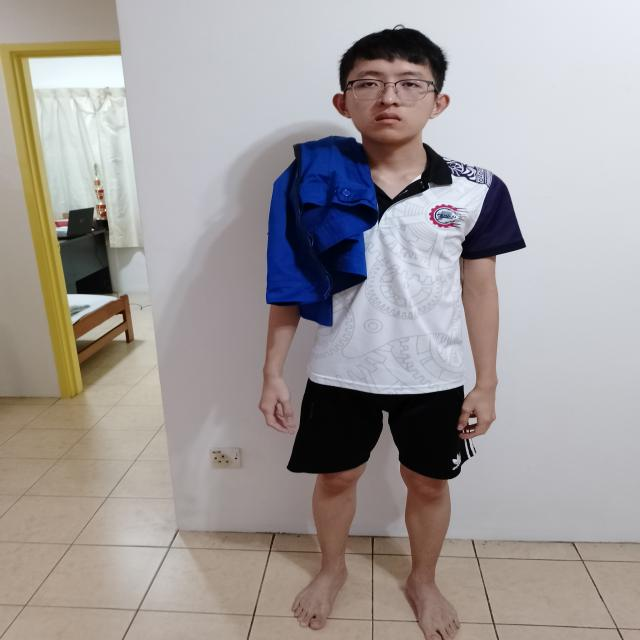person_without_labcoat: (259, 29, 525, 640)
